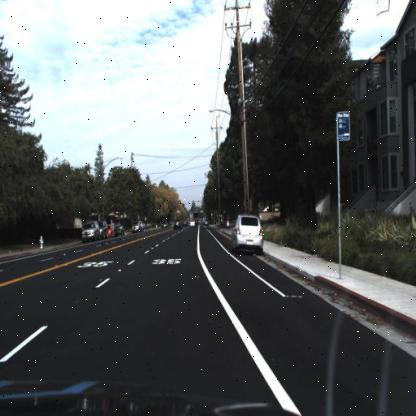car: (231, 209, 264, 251), (234, 210, 261, 258), (79, 218, 100, 244), (81, 216, 99, 242), (96, 221, 107, 239), (112, 223, 124, 238), (130, 221, 141, 233), (107, 222, 112, 238)
